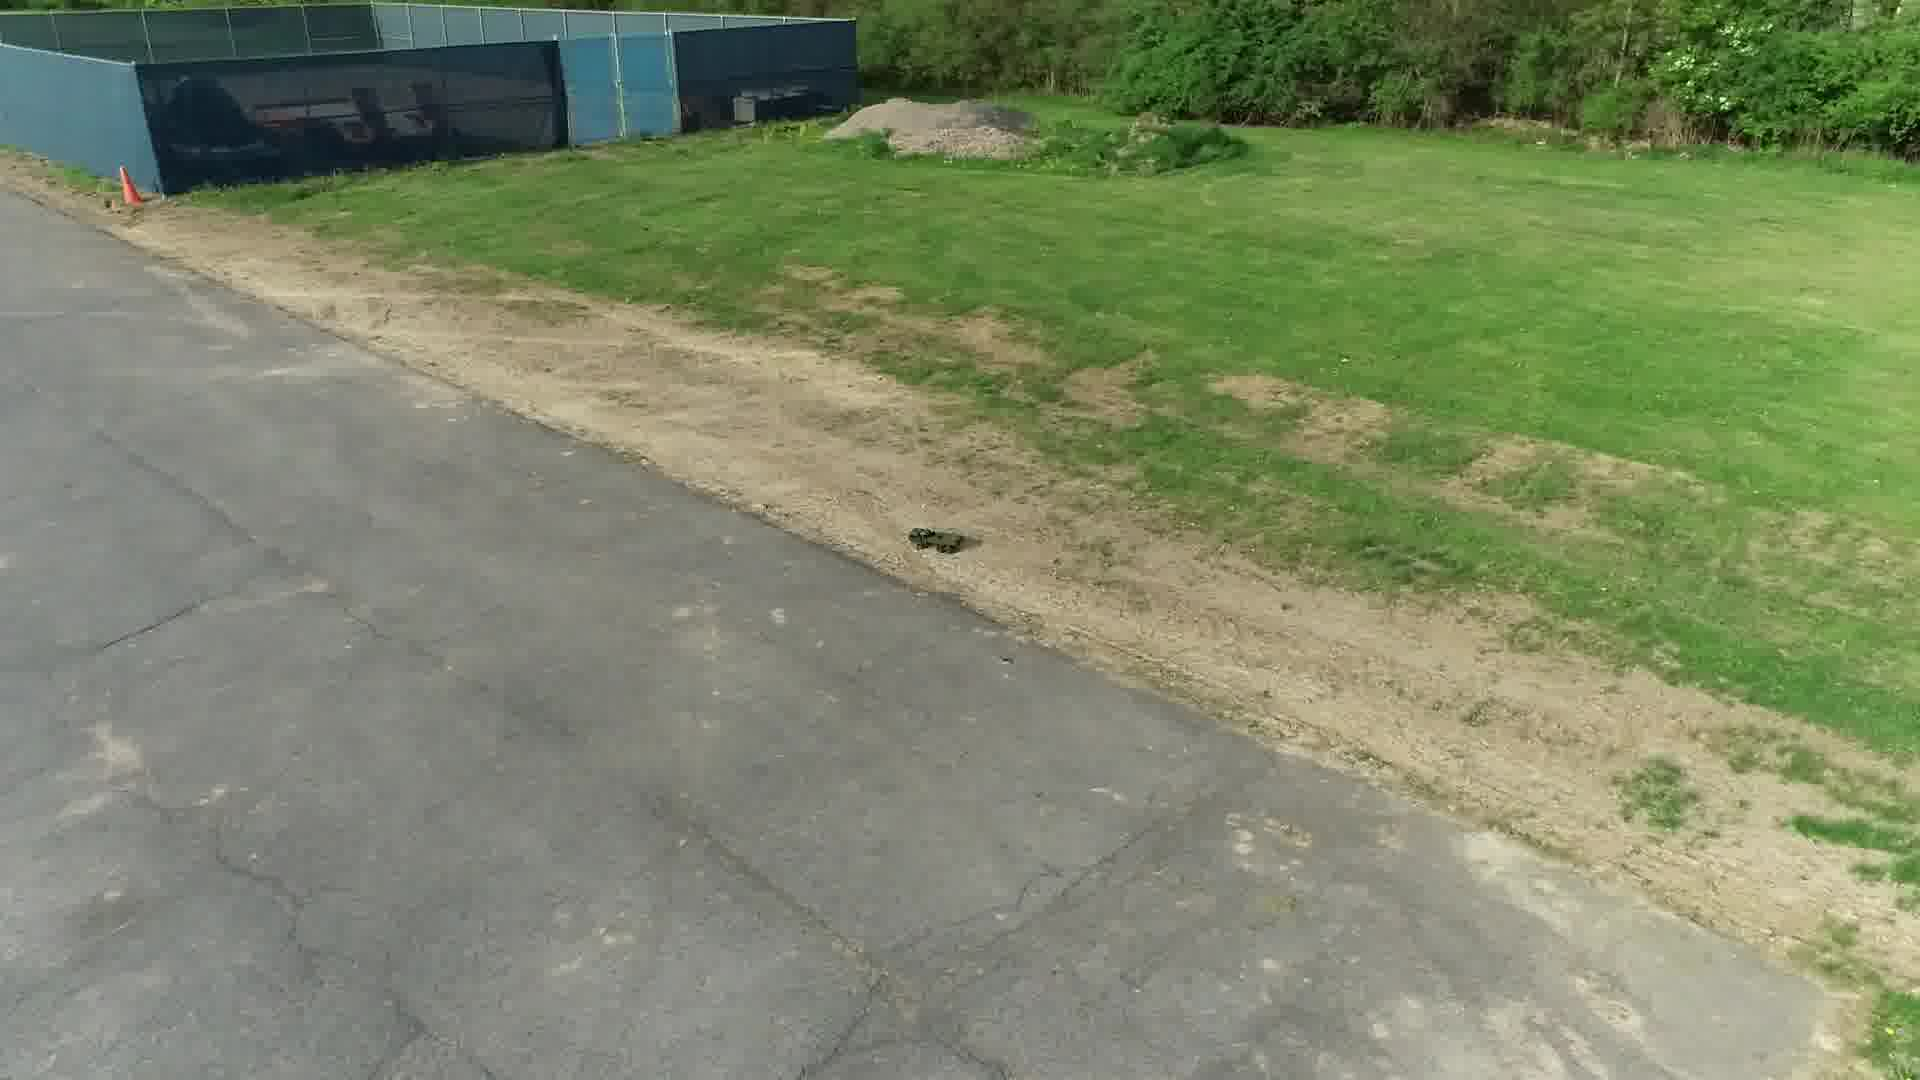transporter9: (907, 525, 965, 556)
